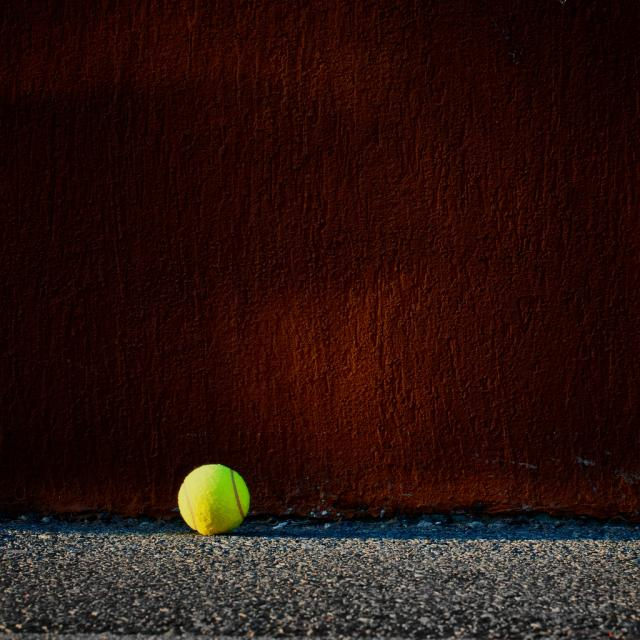Tennis ball: (177, 462, 249, 536)
